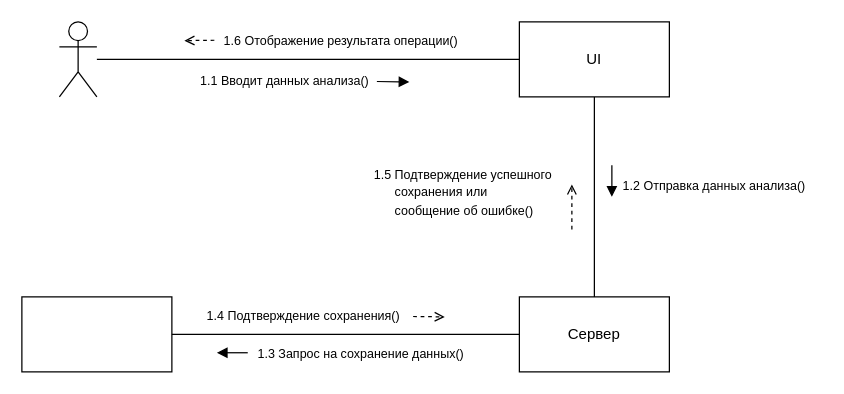
This 844x394 diagram has some shape labels left out. The centre of each missing label's shape, as x and y in pixels:
"База данных" belongs at [96,334].
"Пользователь" belongs at [77,59].
